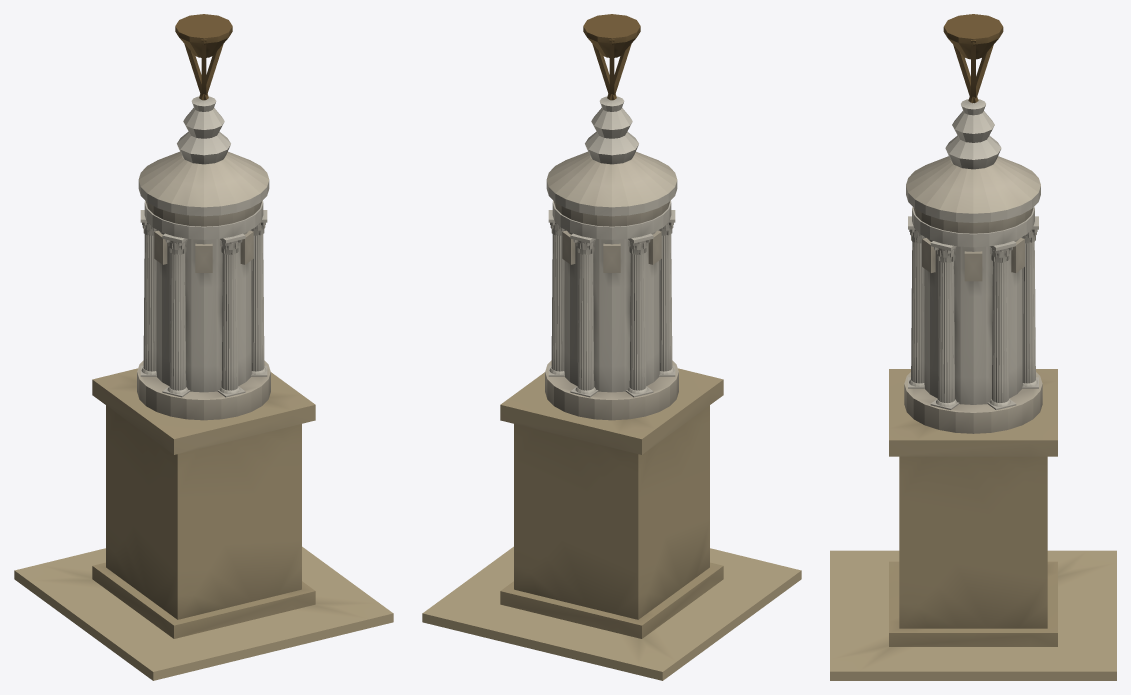
Rendered from lysicrates.glb.
The picture shows the model from 3 angles, left to right: view 1: azimuth 30°, elevation 25°; view 2: azimuth 150°, elevation 25°; view 3: azimuth 270°, elevation 25°; orthographic projection. The views are drawn at different scales.
Parts seen in each view (by area): view 1: p0_base, p1_monument, p2_roof; view 2: p0_base, p1_monument, p2_roof; view 3: p0_base, p1_monument, p2_roof.
Part boxes in pixels (x1,y1,x2,y2): p0_base: [14, 368, 393, 680]; p1_monument: [137, 210, 270, 420]; p2_roof: [138, 14, 269, 239]; p0_base: [422, 368, 801, 680]; p1_monument: [545, 210, 678, 420]; p2_roof: [546, 14, 677, 239]; p0_base: [830, 369, 1116, 680]; p1_monument: [904, 216, 1042, 433]; p2_roof: [906, 14, 1040, 247].
Bounding box in the file's own units: 5.6 × 12.8 × 5.6.
